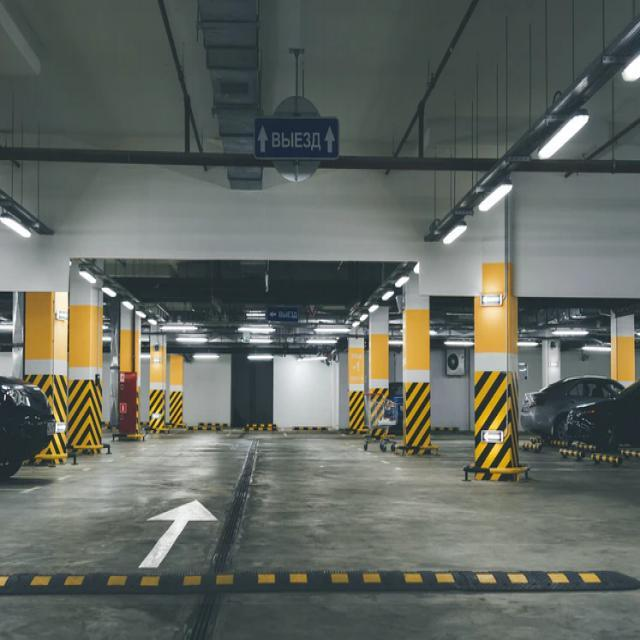speed-bump: (0, 544, 640, 604)
